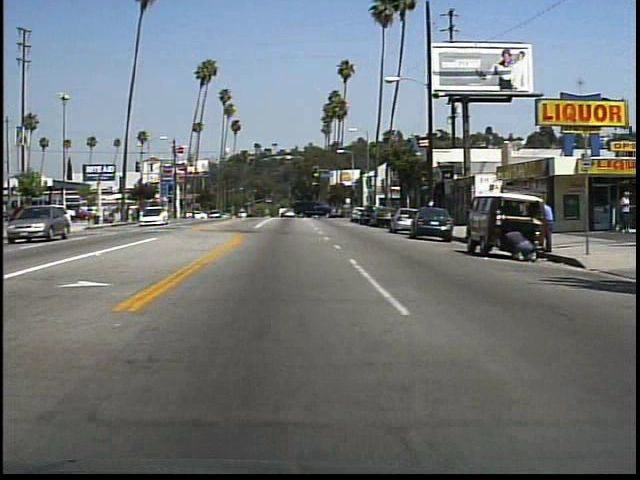person: (501, 226, 536, 266), (538, 199, 557, 254), (614, 186, 631, 238)
